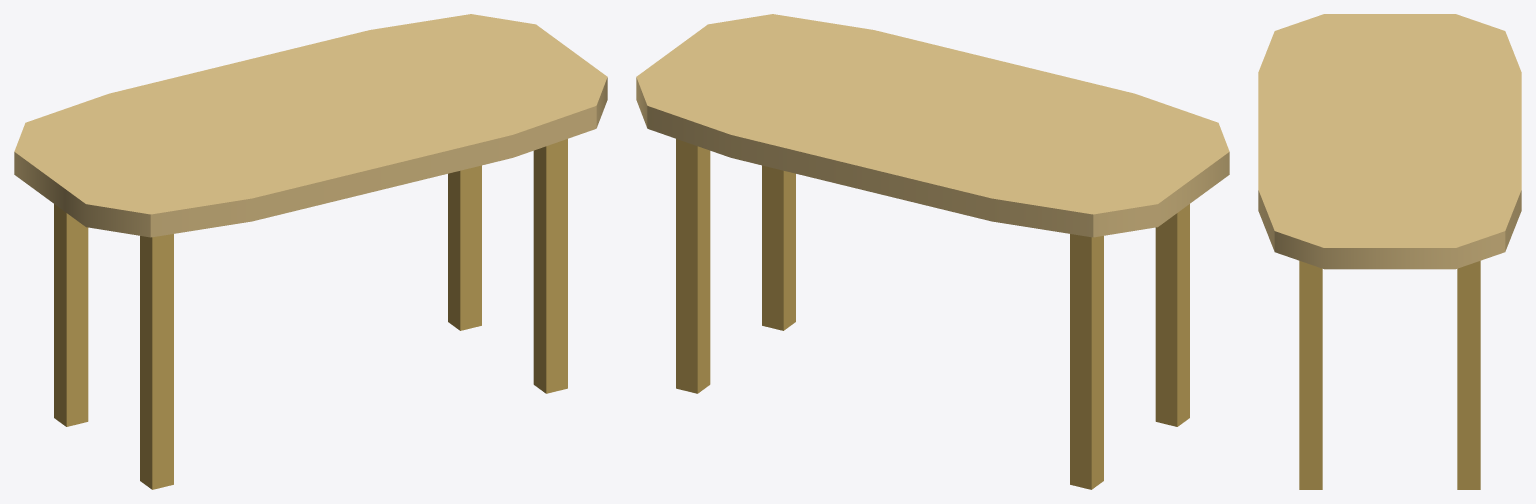
Rendered from Table1.fbx.
The picture shows the model from 3 angles, left to right: view 1: azimuth 30°, elevation 25°; view 2: azimuth 150°, elevation 25°; view 3: azimuth 270°, elevation 25°; orthographic projection. The views are drawn at different scales.
Visible parts, largest first — view 1: pCube1, pasted__pCube3, pCube2, pasted__pCube2, pasted__pasted__pCube2; view 2: pCube1, pasted__pasted__pCube2, pasted__pCube2, pCube2, pasted__pCube3; view 3: pCube1, pasted__pCube3, pasted__pasted__pCube2.
Boxes of the visible parts, left/top/right/bottom form: pCube1: left=14, top=14, right=607, bottom=237; pasted__pCube3: left=533, top=139, right=567, bottom=393; pCube2: left=140, top=234, right=173, bottom=489; pasted__pCube2: left=54, top=204, right=88, bottom=426; pasted__pasted__pCube2: left=448, top=165, right=481, bottom=330; pCube1: left=636, top=14, right=1229, bottom=237; pasted__pasted__pCube2: left=676, top=139, right=710, bottom=393; pasted__pCube2: left=1070, top=234, right=1103, bottom=489; pCube2: left=1155, top=204, right=1189, bottom=426; pasted__pCube3: left=762, top=165, right=795, bottom=330; pCube1: left=1258, top=14, right=1521, bottom=269; pasted__pCube3: left=1299, top=261, right=1322, bottom=489; pasted__pasted__pCube2: left=1457, top=261, right=1480, bottom=489.
Bounding box in the file's own units: 6.04 × 3.2 × 2.87.
